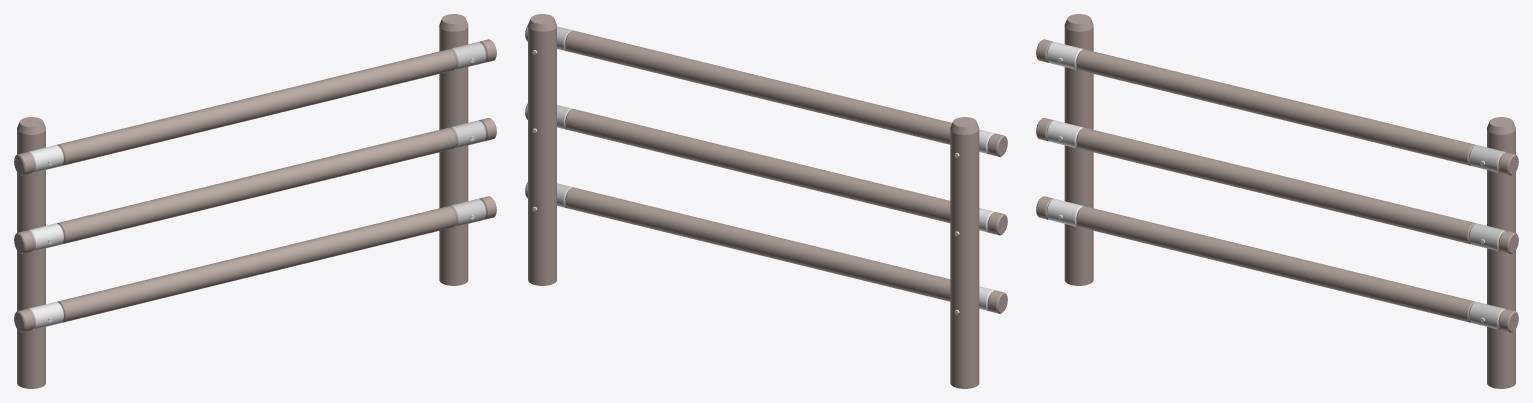
Rendered from 1042_guard_fence_1.glb.
The picture shows the model from 3 angles, left to right: view 1: azimuth 30°, elevation 25°; view 2: azimuth 150°, elevation 25°; view 3: azimuth 330°, elevation 25°; orthographic projection.
Parts seen in each view (by area): view 1: Body; view 2: Body; view 3: Body.
Part boxes in pixels (box(x1,y1,x2,y2)): Body: box(14, 14, 496, 388); Body: box(525, 14, 1007, 388); Body: box(1036, 14, 1518, 388).
Bounding box in the file's own units: 2.24 × 1.18 × 0.2256.
